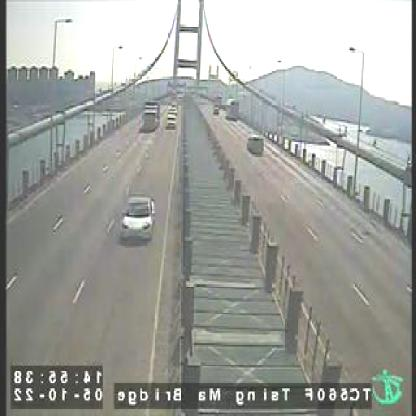Car: (121, 194, 157, 239), (250, 134, 265, 154), (168, 113, 178, 128)
Truck: (143, 97, 160, 130)
